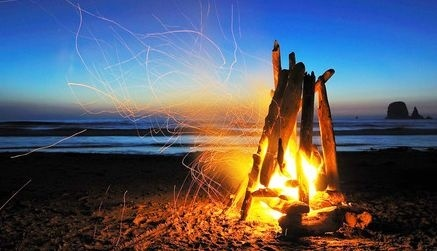fire: (213, 114, 325, 229)
